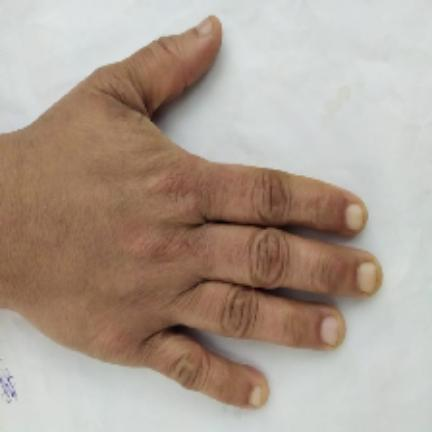Nail: (357, 262, 377, 294), (321, 317, 338, 346), (346, 204, 364, 230), (196, 16, 213, 36), (250, 386, 262, 407)
